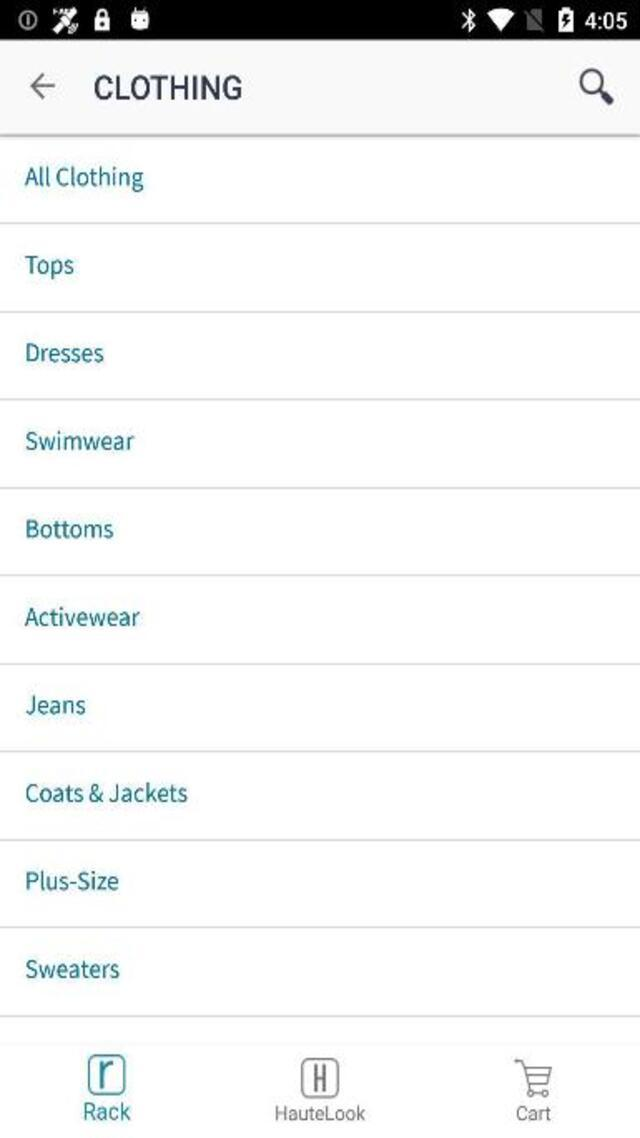Icon: (88, 1054, 126, 1094), (514, 1058, 552, 1097), (302, 1058, 340, 1097), (578, 68, 616, 106), (29, 72, 54, 99)
Text: (95, 74, 241, 100), (26, 781, 187, 802), (25, 166, 145, 193), (25, 430, 135, 452), (26, 605, 140, 625), (26, 959, 120, 979), (28, 870, 118, 890), (27, 518, 113, 538), (27, 342, 103, 362), (276, 1105, 366, 1121), (25, 694, 85, 714), (26, 254, 74, 279), (85, 1100, 132, 1118), (516, 1105, 551, 1121)
